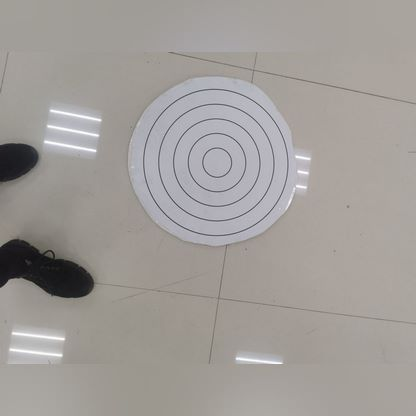circle: (129, 78, 296, 239)
